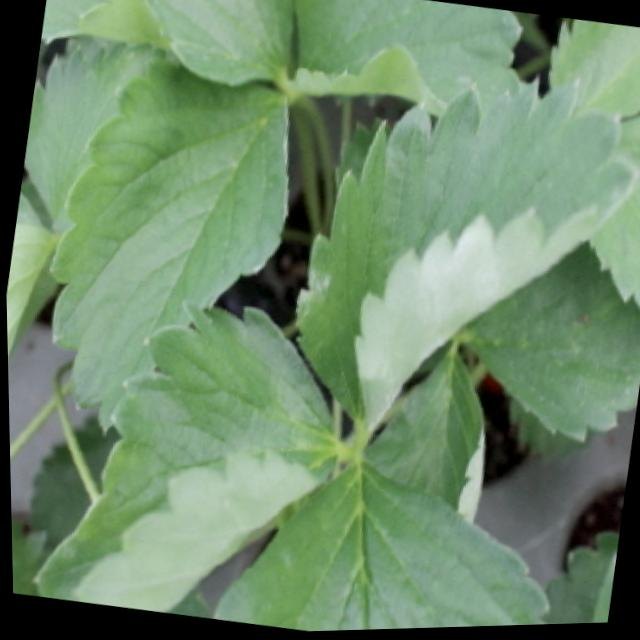Powdery Mildew Leaf: (290, 77, 638, 447), (5, 188, 57, 354)
